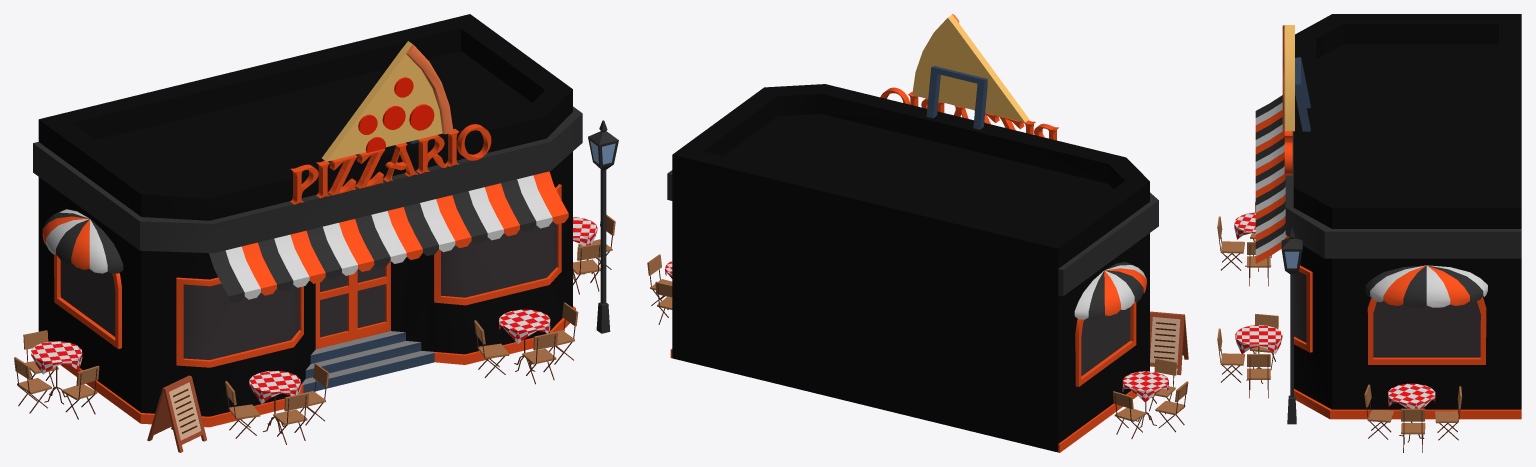
3 views of the same model, side by side, from view 1: azimuth 30°, elevation 25°; view 2: azimuth 150°, elevation 25°; view 3: azimuth 270°, elevation 25° (orthographic). The views are drawn at different scales.
Visible parts, largest first — view 1: PizzaBuilding, PizzaTables, Text.001, PizzaBoard, PizzaLight; view 2: PizzaBuilding, PizzaTables, PizzaBoard, Text.001; view 3: PizzaBuilding, PizzaTables, PizzaLight, Text.001.
Boxes of the visible parts, x1,y1,x2,y2 form: PizzaBuilding: [33, 14, 582, 427]; PizzaTables: [14, 214, 615, 444]; Text.001: [290, 124, 491, 204]; PizzaBoard: [147, 375, 206, 452]; PizzaLight: [588, 120, 618, 333]; PizzaBuilding: [667, 14, 1158, 452]; PizzaTables: [647, 254, 1188, 438]; PizzaBoard: [1150, 311, 1188, 375]; Text.001: [880, 87, 1058, 140]; PizzaBuilding: [1255, 14, 1521, 419]; PizzaTables: [1217, 202, 1462, 452]; PizzaLight: [1281, 228, 1302, 424]; Text.001: [1284, 131, 1292, 175].
Size of what is drawn, in the model's own units: 6.03 by 3.27 by 2.91.
Materials: 1 (1 with a texture image).
